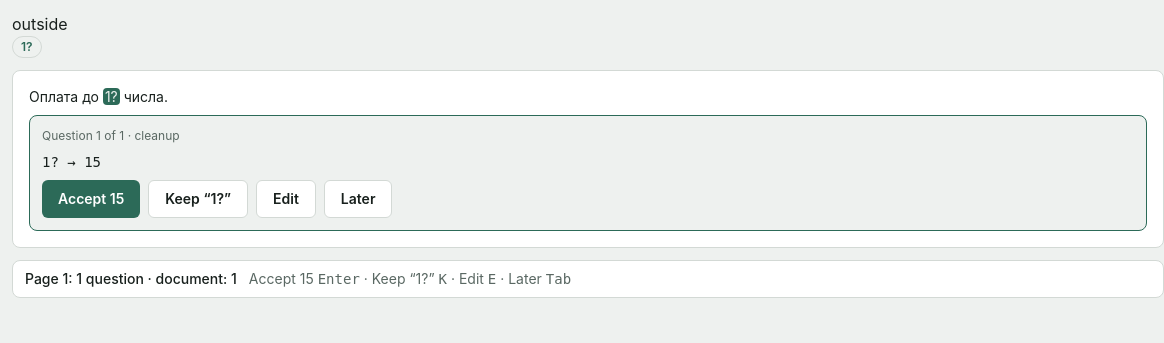
reviewing a page › on the document's only open question, Later says so
Click the button "Later". click: x=358, y=199
box: [324,180,392,218]
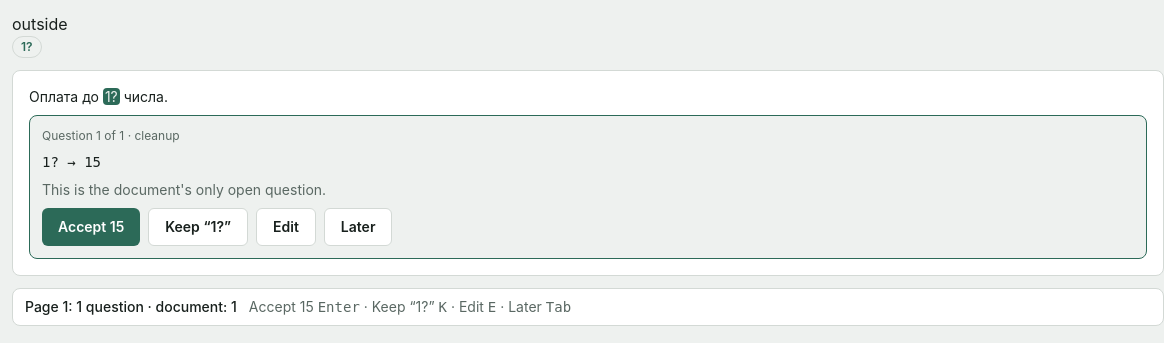
Expected: the text "This is the document's only open question." is shown, [42,181,326,198]
